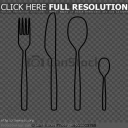Fork: (15, 15, 38, 109)
